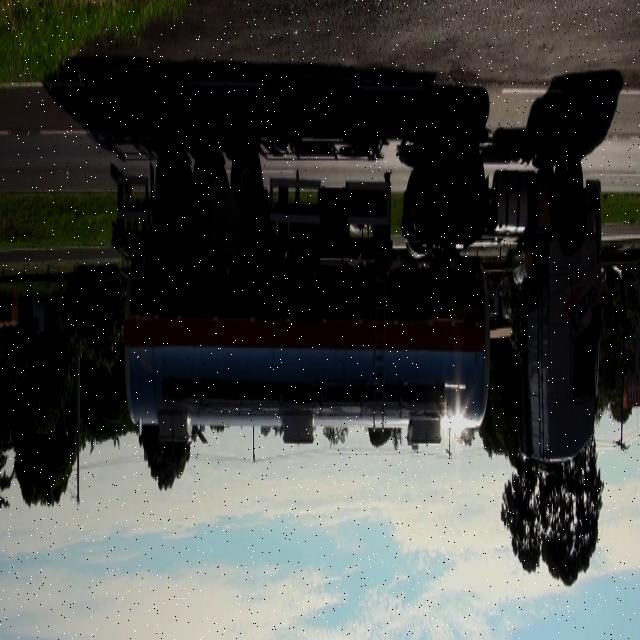-axle: (232, 142, 264, 238), (192, 141, 225, 234), (156, 140, 189, 230), (453, 144, 485, 227), (554, 144, 584, 225), (420, 150, 448, 223)
